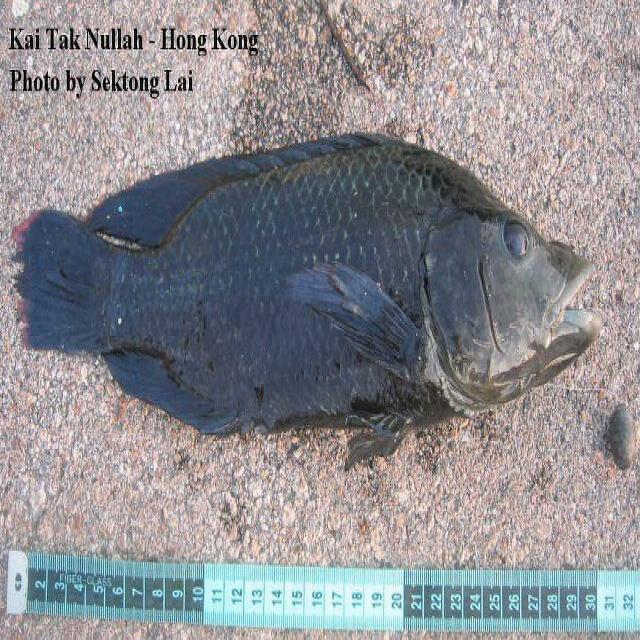ikan: (10, 118, 608, 472)
